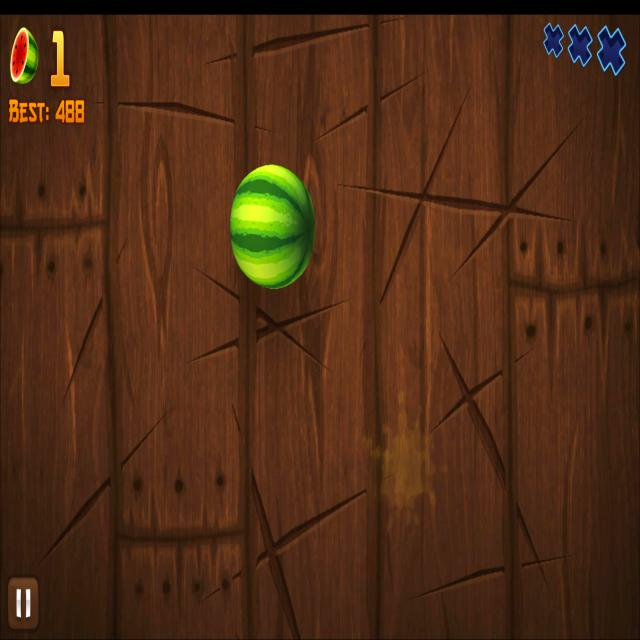fruit: (228, 163, 316, 293)
